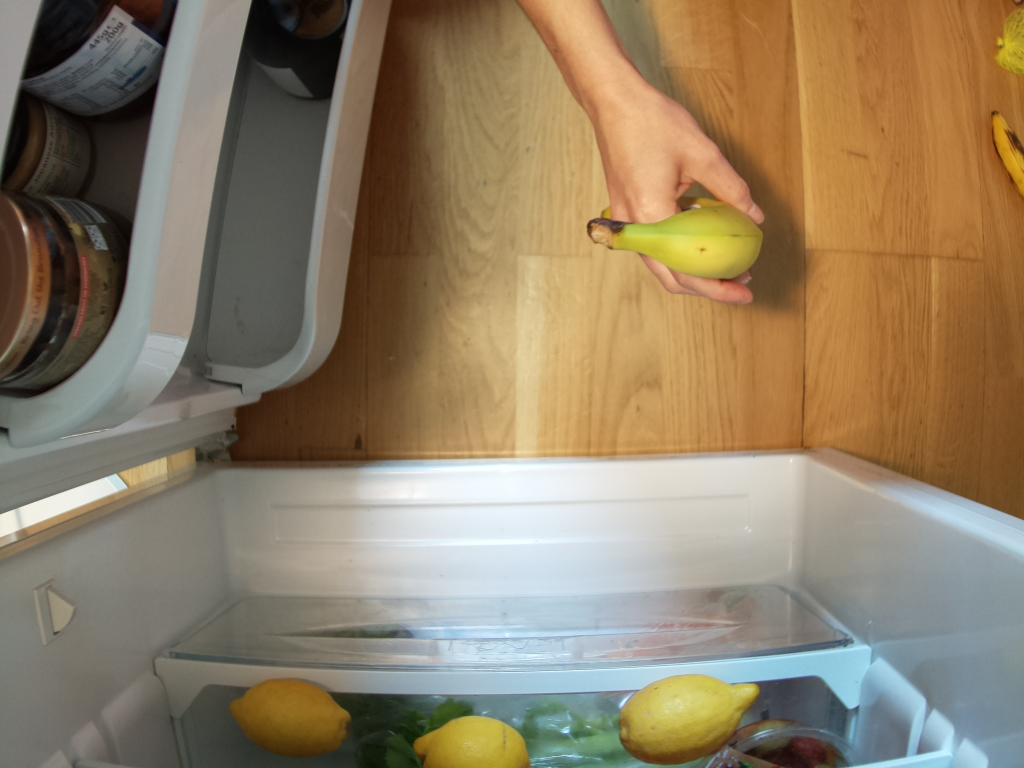banana-unripe: (584, 196, 766, 280)
